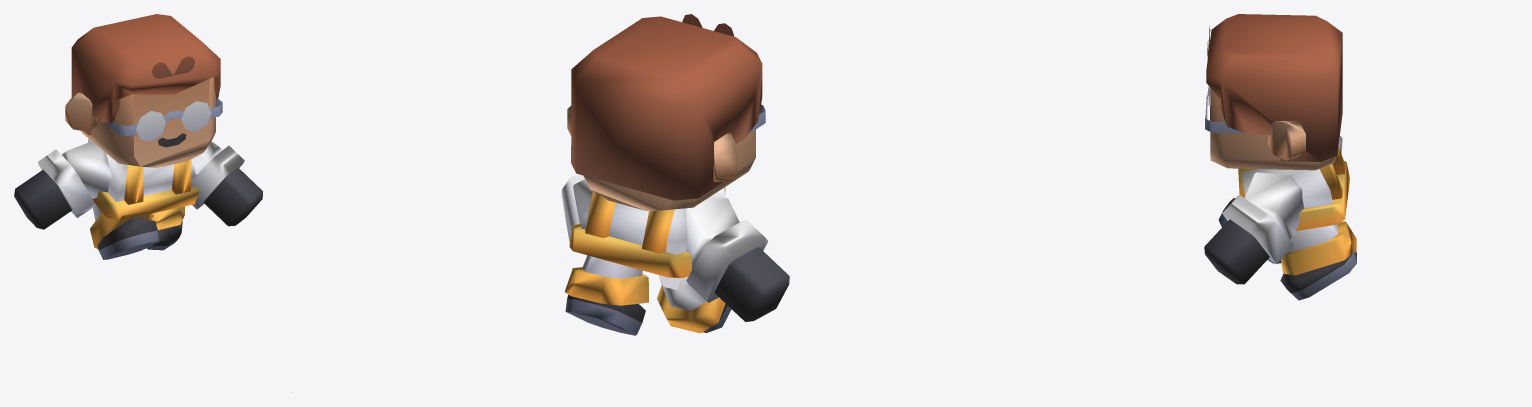
File: builder_sprint_9.glb
The picture shows the model from 3 angles, left to right: view 1: azimuth 30°, elevation 25°; view 2: azimuth 150°, elevation 25°; view 3: azimuth 270°, elevation 25°; orthographic projection. The views are drawn at different scales.
Parts seen in each view (by area): view 1: builder-sprint-9; view 2: builder-sprint-9; view 3: builder-sprint-9.
Part boxes in pixels (x1=…): builder-sprint-9: x1=14, y1=14, x2=262, y2=259; builder-sprint-9: x1=561, y1=14, x2=789, y2=335; builder-sprint-9: x1=1204, y1=14, x2=1356, y2=300.
Bounding box in the file's own units: 1.2 × 0.7427 × 1.2.
1 material, 1 textured.
